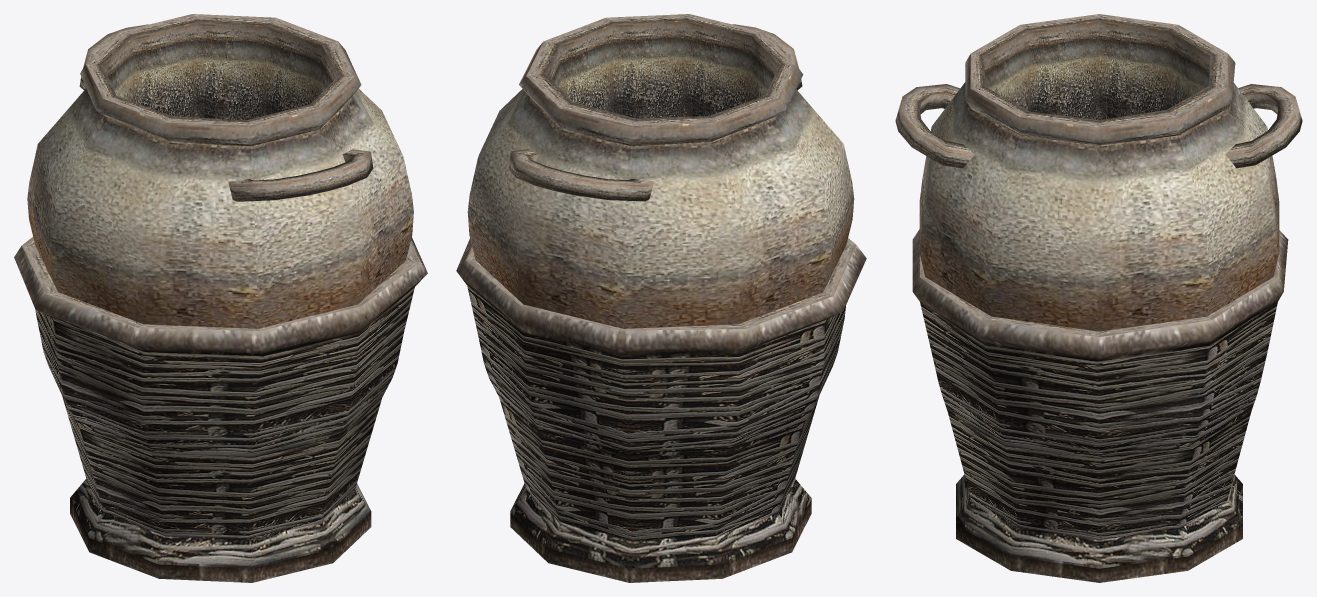
The model's file is crock02_lod1.model.obj.
The picture shows the model from 3 angles, left to right: view 1: azimuth 30°, elevation 25°; view 2: azimuth 150°, elevation 25°; view 3: azimuth 270°, elevation 25°; orthographic projection.
Parts seen in each view (by area): view 1: polySurface2221; view 2: polySurface2221; view 3: polySurface2221.
Boxes of the visible parts, x1,y1,x2,y2 form: polySurface2221: [14, 14, 427, 582]; polySurface2221: [456, 14, 866, 582]; polySurface2221: [895, 14, 1302, 582].
Size of the model in its own units: 118 by 138 by 113.
